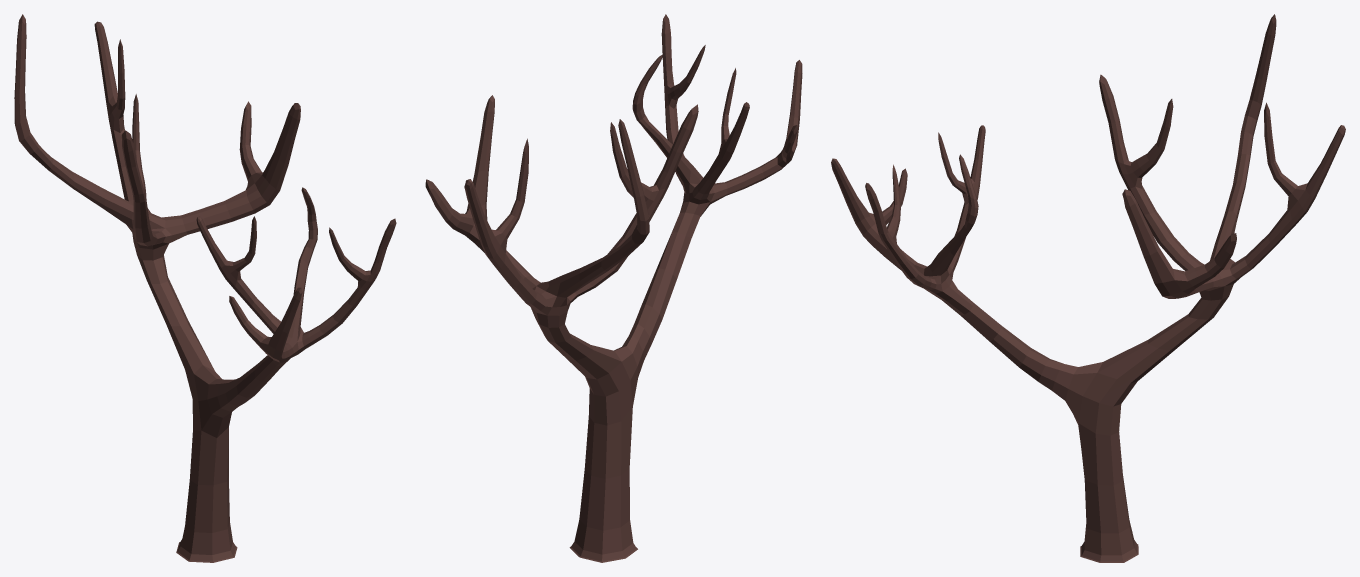
The model's file is dead-1.glb.
The picture shows the model from 3 angles, left to right: view 1: azimuth 30°, elevation 25°; view 2: azimuth 150°, elevation 25°; view 3: azimuth 270°, elevation 25°; orthographic projection. The views are drawn at different scales.
Visible parts, largest first — view 1: CommonTree_Dead_1; view 2: CommonTree_Dead_1; view 3: CommonTree_Dead_1.
Part boxes in pixels (bbox=[...]): CommonTree_Dead_1: bbox=[14, 14, 396, 562]; CommonTree_Dead_1: bbox=[425, 14, 802, 562]; CommonTree_Dead_1: bbox=[831, 14, 1345, 562].
Size of the model in its own units: 1.04 by 2.22 by 2.12.
